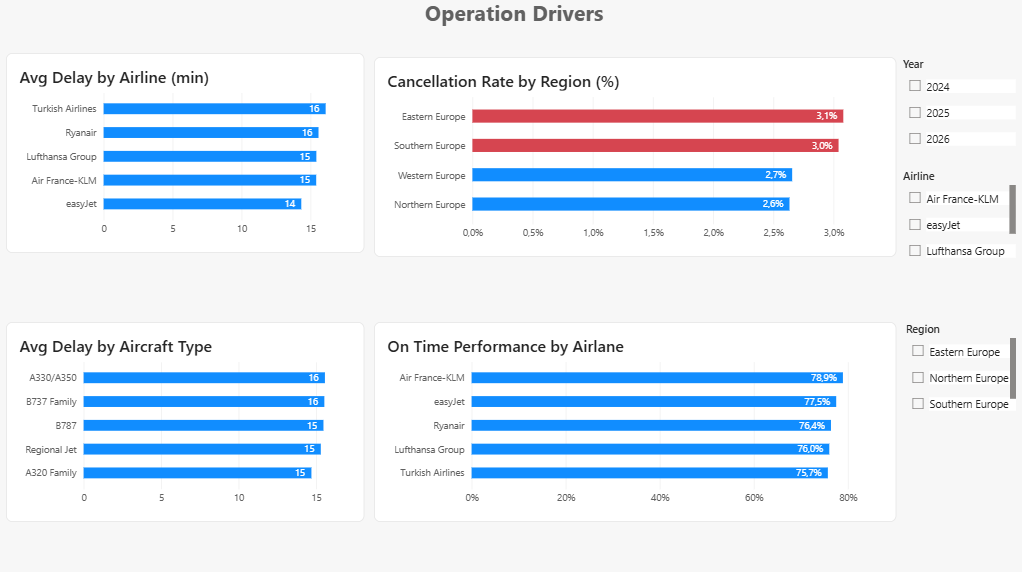

What the dashboard file says about the page in this screenshot:
{"tool":"powerbi","page":{"name":"Operation Drivers","canvas":[1280,720],"ordinal":1},"visuals":[{"type":"textbox","box":[9.3,0,1270.7,48.1],"z":0},{"type":"clusteredBarChart","title":"On Time Performance by Airlane","fields":{"Category":["european_air_traffic_detailed.airline"],"Y":["european_air_traffic_detailed.On Time Perfromance"]},"box":[468.8,405,652.5,250],"z":1000},{"type":"clusteredBarChart","title":"Avg Delay by Airline (min)","fields":{"Category":["european_air_traffic_detailed.airline"],"Y":["european_air_traffic_detailed.Average Delay (min)"]},"box":[8.8,68.8,447.5,250],"z":2000},{"type":"clusteredBarChart","title":"Cancellation Rate by Region (%)","fields":{"Category":["european_air_traffic_detailed.region"],"Y":["european_air_traffic_detailed.Cancellation Rate"]},"box":[468.8,73.8,652.5,250],"z":3000},{"type":"clusteredBarChart","title":"Avg Delay by Aircraft Type","fields":{"Category":["european_air_traffic_detailed.aircraft_type"],"Y":["european_air_traffic_detailed.Average Delay (min)"]},"box":[8.8,405,447.5,250],"z":4000},{"type":"slicer","title":"Year","fields":{"Values":["european_air_traffic_detailed.month.Variation.Date Hierarchy.Year"]},"box":[1130,73.8,141.2,120],"z":5000},{"type":"slicer","title":"Airline","fields":{"Values":["european_air_traffic_detailed.airline"]},"box":[1130,213.8,141.2,120],"z":6000},{"type":"slicer","title":"Region","fields":{"Values":["european_air_traffic_detailed.region"]},"box":[1133.8,405,137.5,120],"z":7000}]}

Visuals, with their boxes in screenshot pixels (x1, y1, x2, y2), scaled from the page's 1280x720 canvas onto the 1022x572 screenshot:
textbox: <bbox>7, 0, 1021, 38</bbox>
"On Time Performance by Airlane" clusteredBarChart: <bbox>374, 322, 895, 520</bbox>
"Avg Delay by Airline (min)" clusteredBarChart: <bbox>7, 55, 364, 253</bbox>
"Cancellation Rate by Region (%)" clusteredBarChart: <bbox>374, 59, 895, 257</bbox>
"Avg Delay by Aircraft Type" clusteredBarChart: <bbox>7, 322, 364, 520</bbox>
"Year" slicer: <bbox>902, 59, 1015, 154</bbox>
"Airline" slicer: <bbox>902, 170, 1015, 265</bbox>
"Region" slicer: <bbox>905, 322, 1015, 417</bbox>
